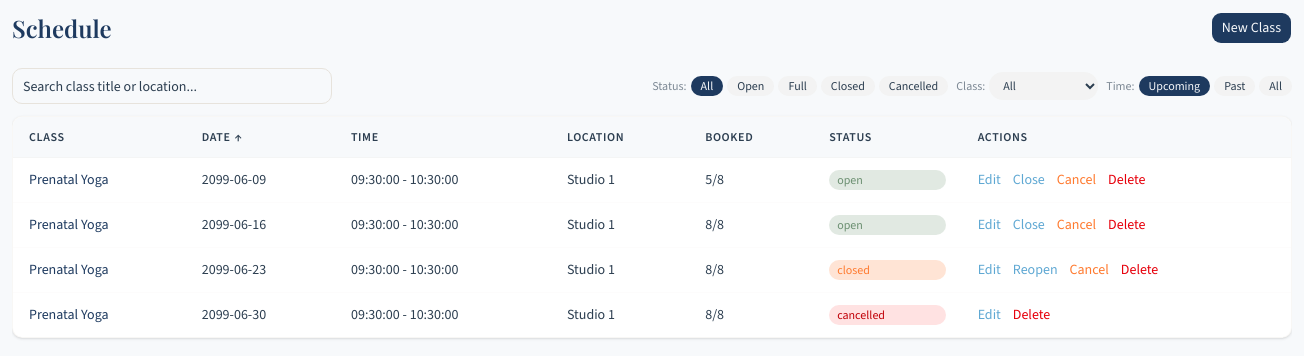
Test case: /admin/schedule › filters Full on the seats, not on a status
Expected: the cell "2099-06-09" is shown, [186,158,335,202]
Click the button "Full" at (798, 86), box [778,76,817,96]
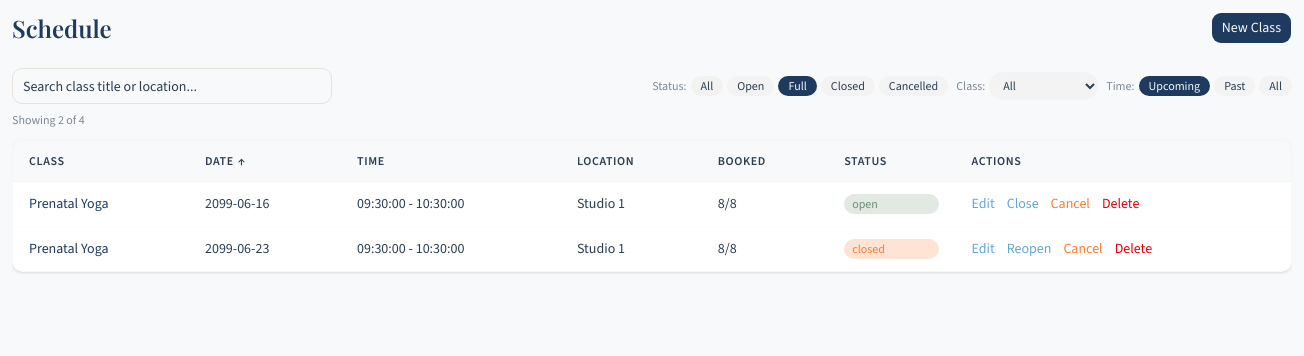
Expected: the cell "2099-06-16" is shown, [189,182,341,226]
Result: the cell "2099-06-09" is gone
Result: the cell "2099-06-30" is gone
